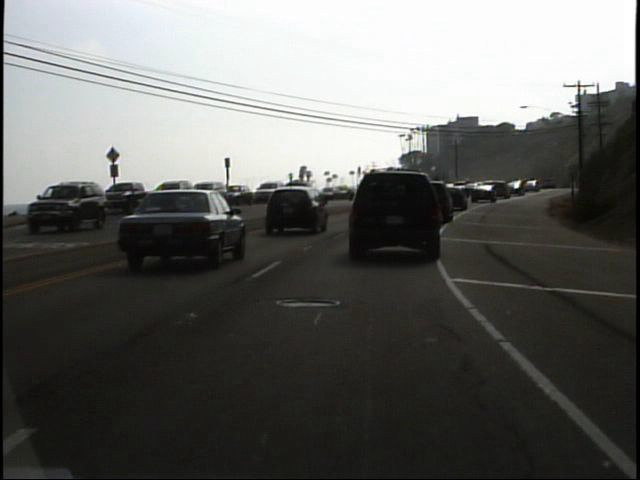person: (73, 179, 92, 219)
